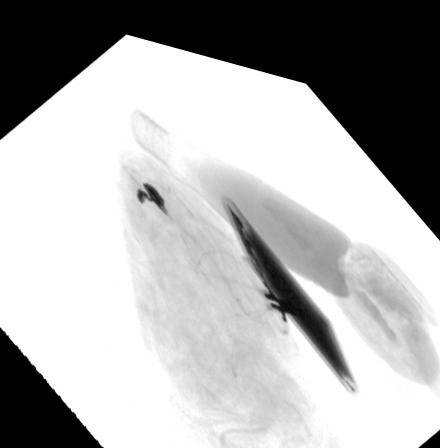Powerbank: (221, 180, 360, 374)
Scissors: (239, 240, 322, 321)
